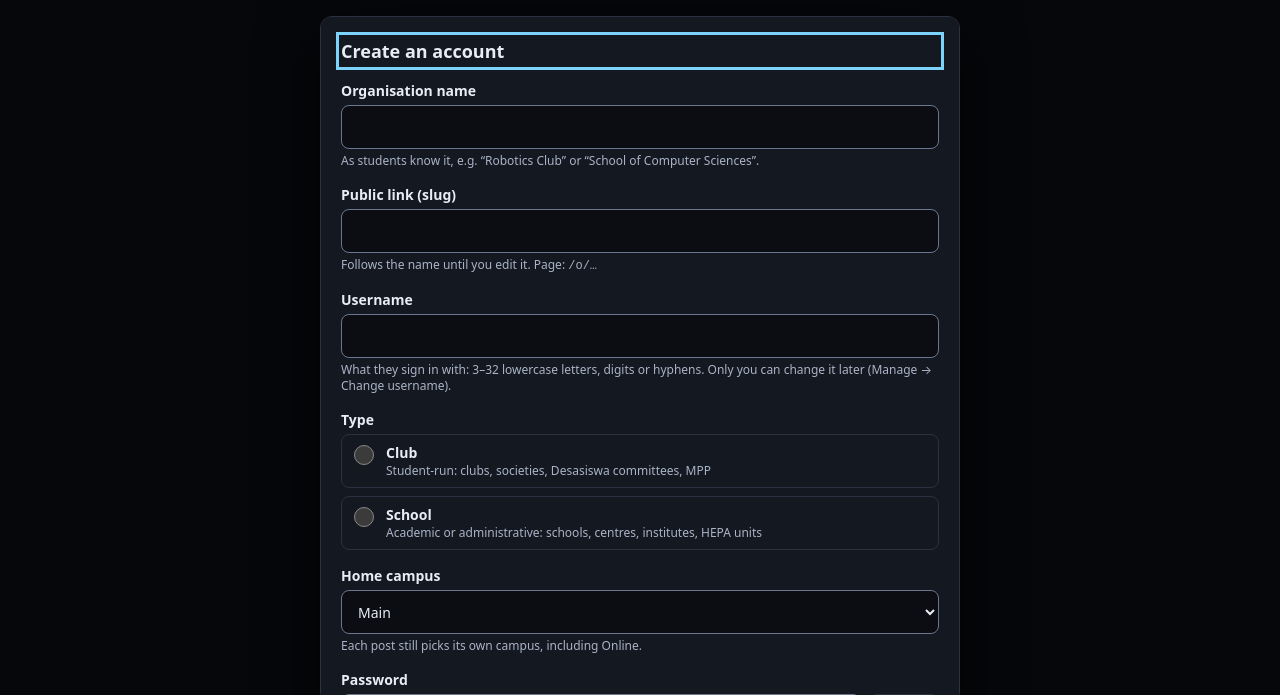
a password the owner types › create: the typed password goes with the new account
The width and height of the screenshot is (1280, 695).
Step 1. Type "Chess Club" into the field labelled "Organisation name" → (640, 127), box [341,105,939,149]
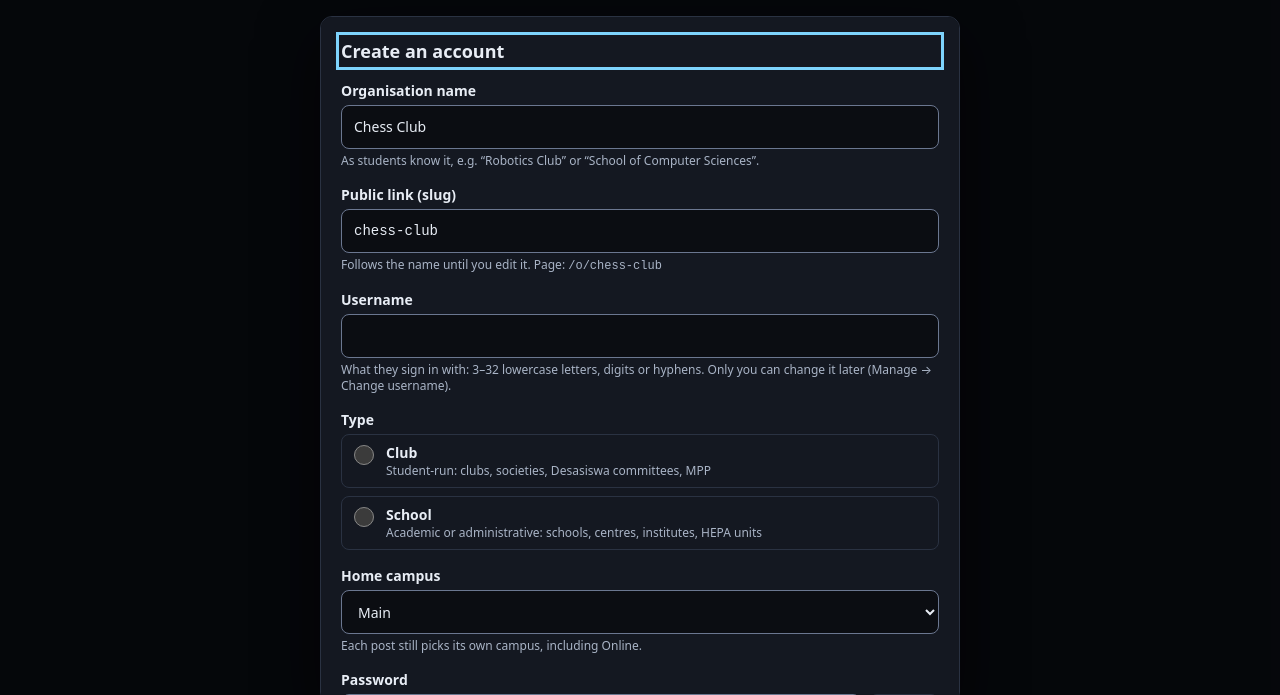
Step 2. Type "chess" into the field labelled "Username" → (640, 336), box [341,314,939,358]
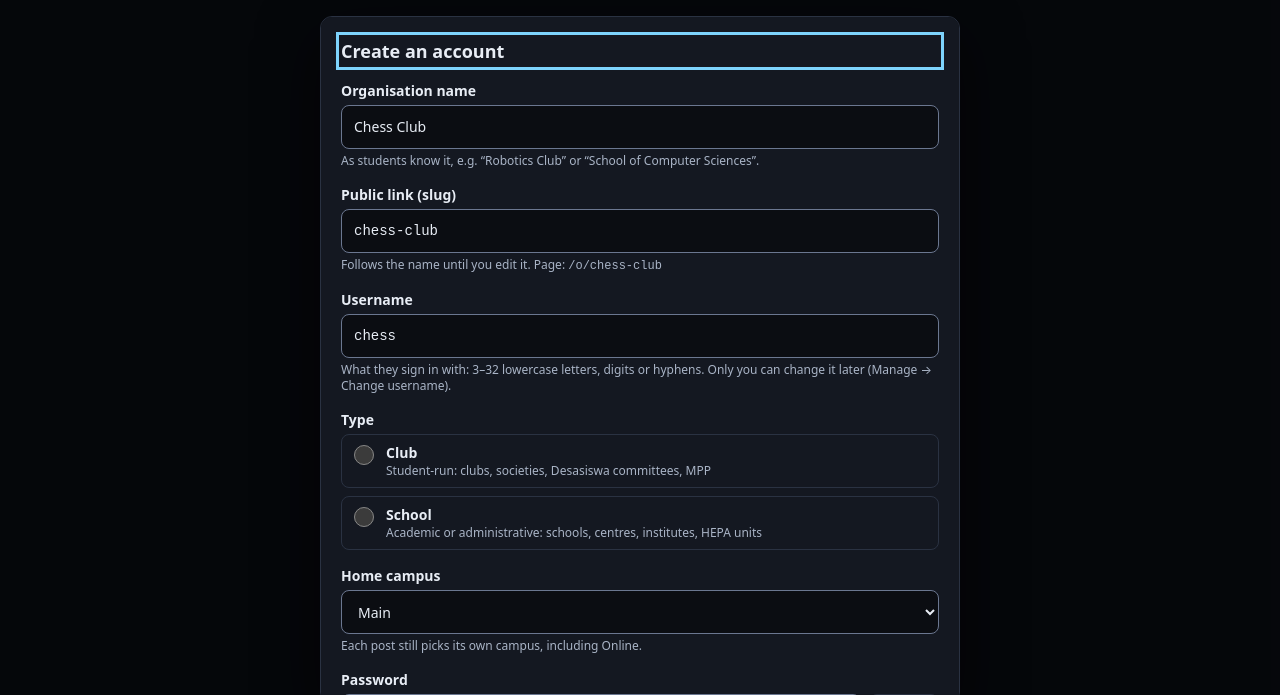
Step 3. Click the radio button labelled "Club" → (364, 455), box [354,445,374,465]
(page scrolled)
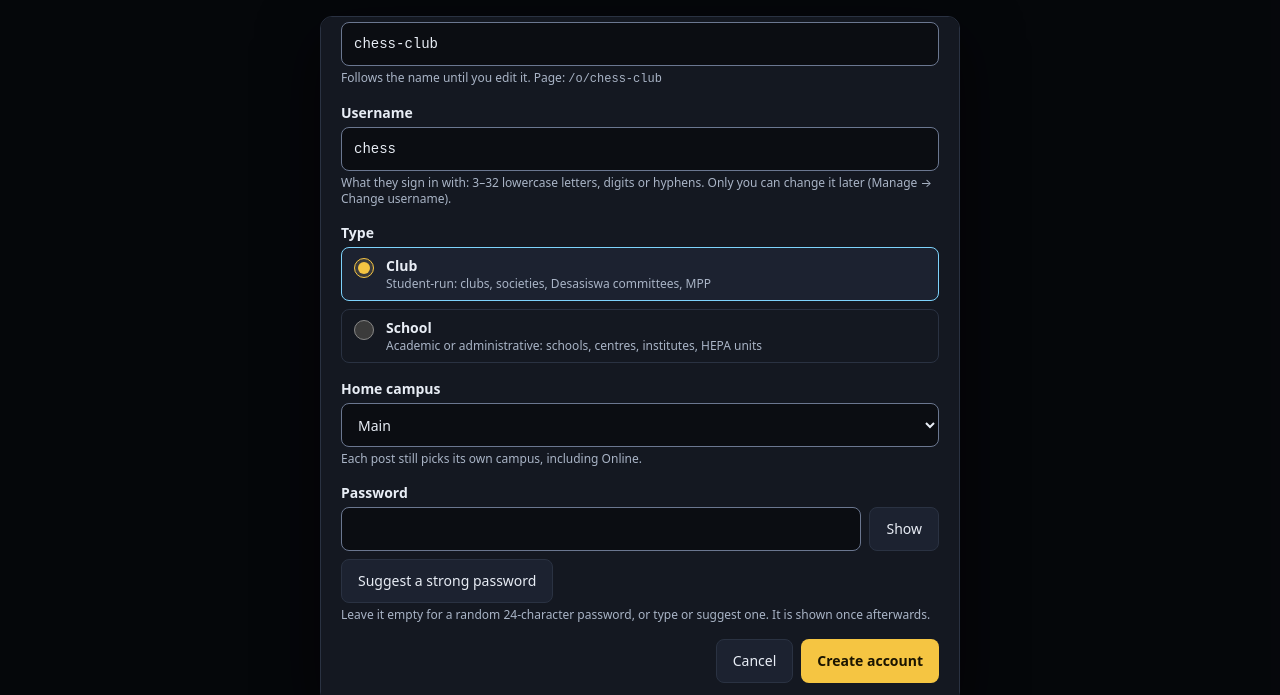
Step 4. Type "Typed by the Owner 2026" into the password field labelled "Password" → (601, 529), box [341,507,862,551]
(page scrolled)
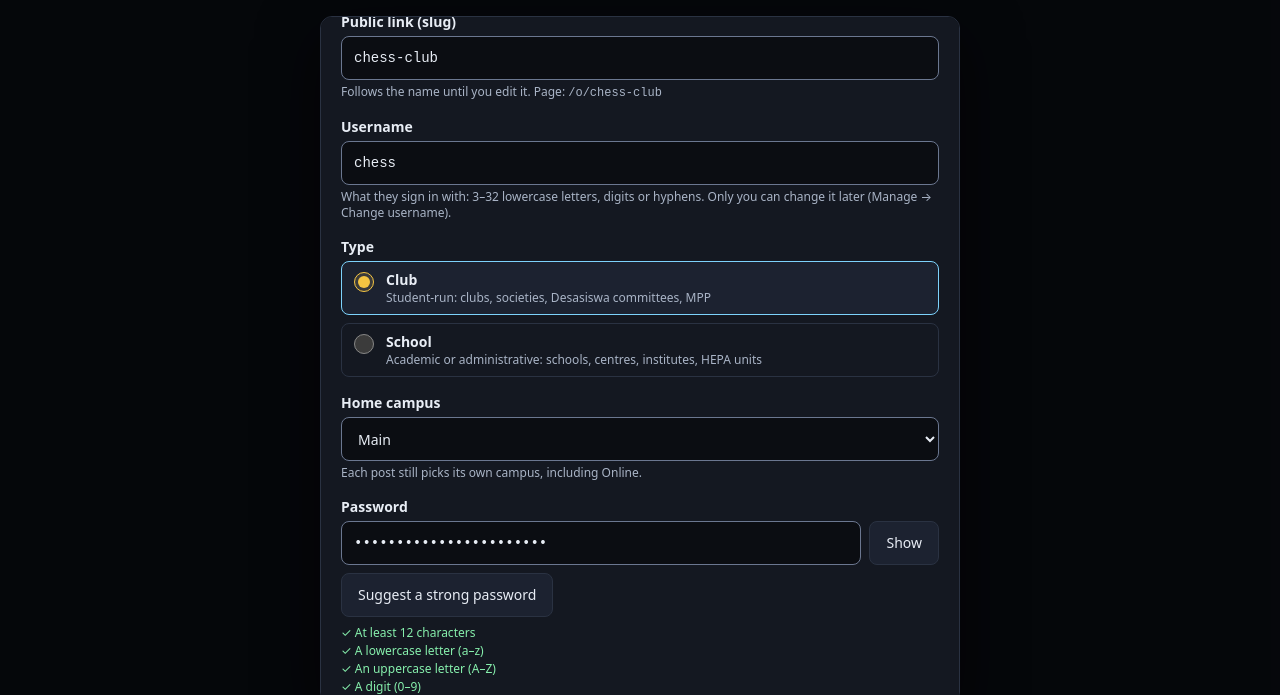
Step 5. Submit the form
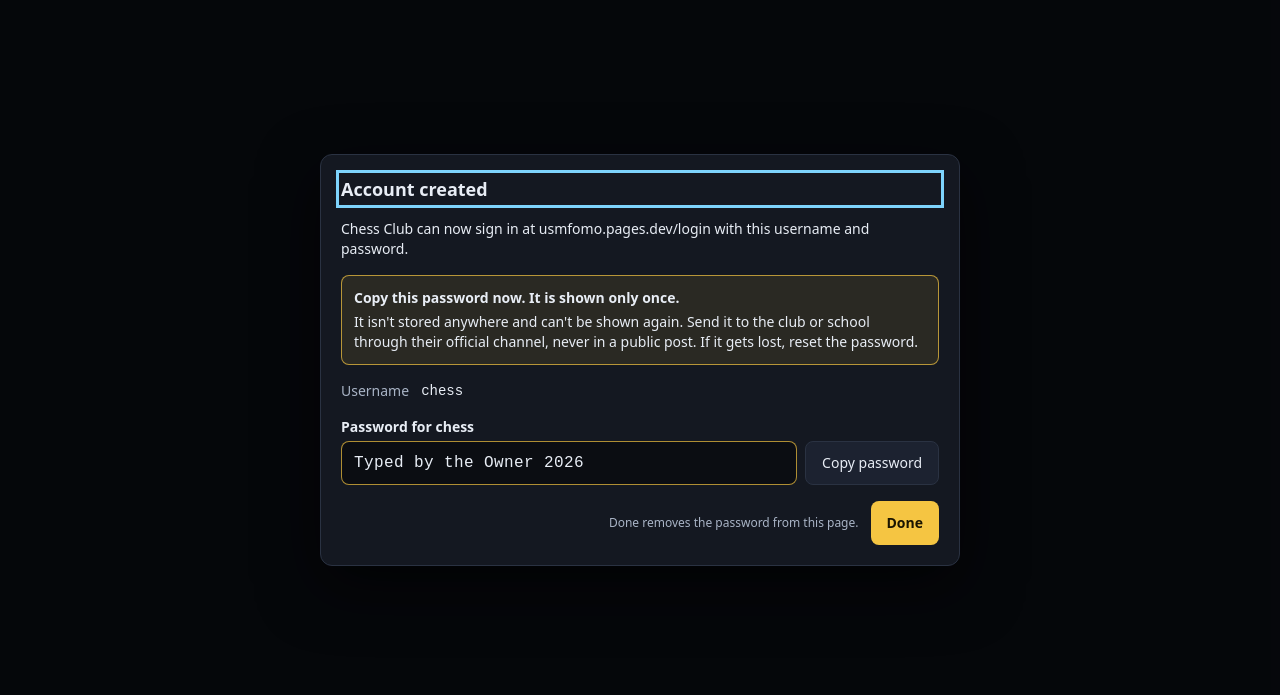
Expected: the field labelled "Password for chess" holds "Typed by the Owner 2026", [341,441,797,485]
